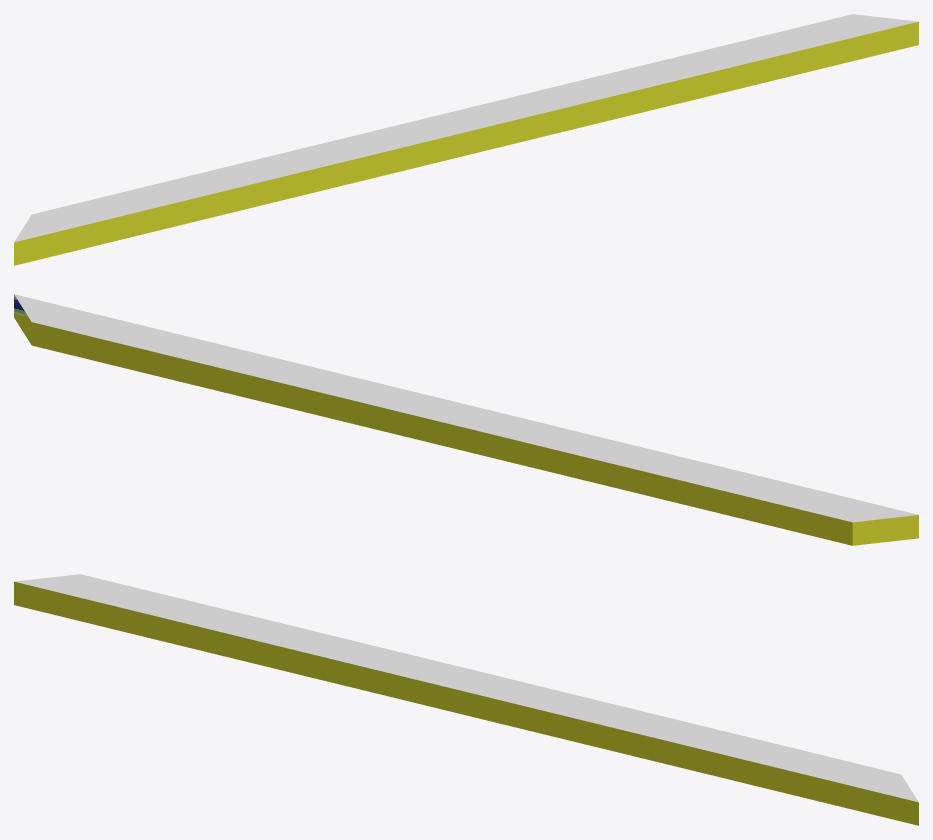
File: TOWER_FLOOR0_colliders_008.fbx
The picture shows the model from 3 angles, top to bottom: view 1: azimuth 30°, elevation 25°; view 2: azimuth 150°, elevation 25°; view 3: azimuth 330°, elevation 25°; orthographic projection.
Visible parts, largest first — view 1: TOWER_FLOOR0_colliders.008; view 2: TOWER_FLOOR0_colliders.008; view 3: TOWER_FLOOR0_colliders.008.
Part boxes in pixels (x1=…): TOWER_FLOOR0_colliders.008: x1=14, y1=14, x2=918, y2=265; TOWER_FLOOR0_colliders.008: x1=14, y1=294, x2=918, y2=545; TOWER_FLOOR0_colliders.008: x1=14, y1=574, x2=918, y2=825.
Bounding box in the file's own units: 88.43 × 2.19 × 4.1.
